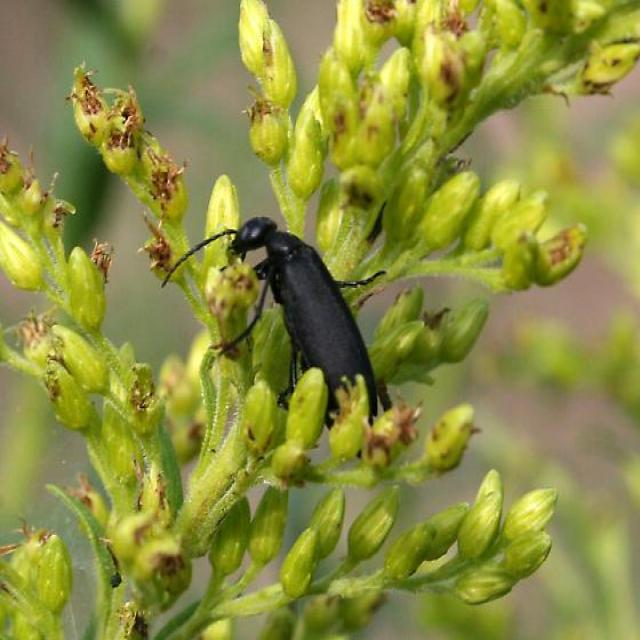BlisterBeetle-Adult-: (205, 208, 392, 431)
